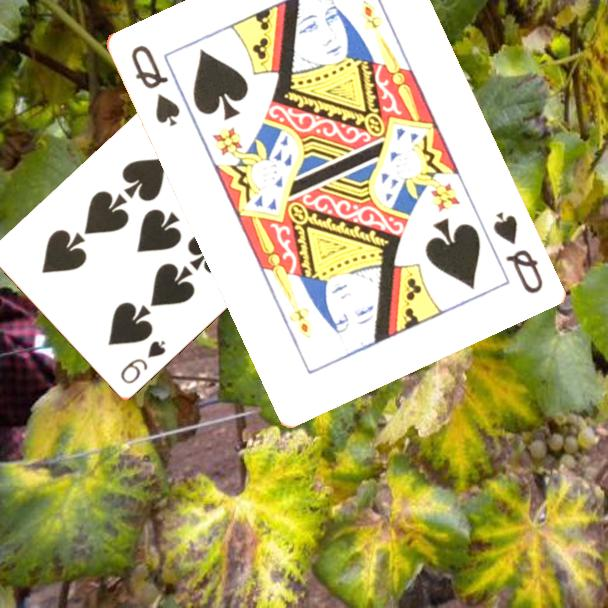s09: (117, 337, 169, 388)
s12: (488, 208, 546, 297), (127, 41, 183, 129)
